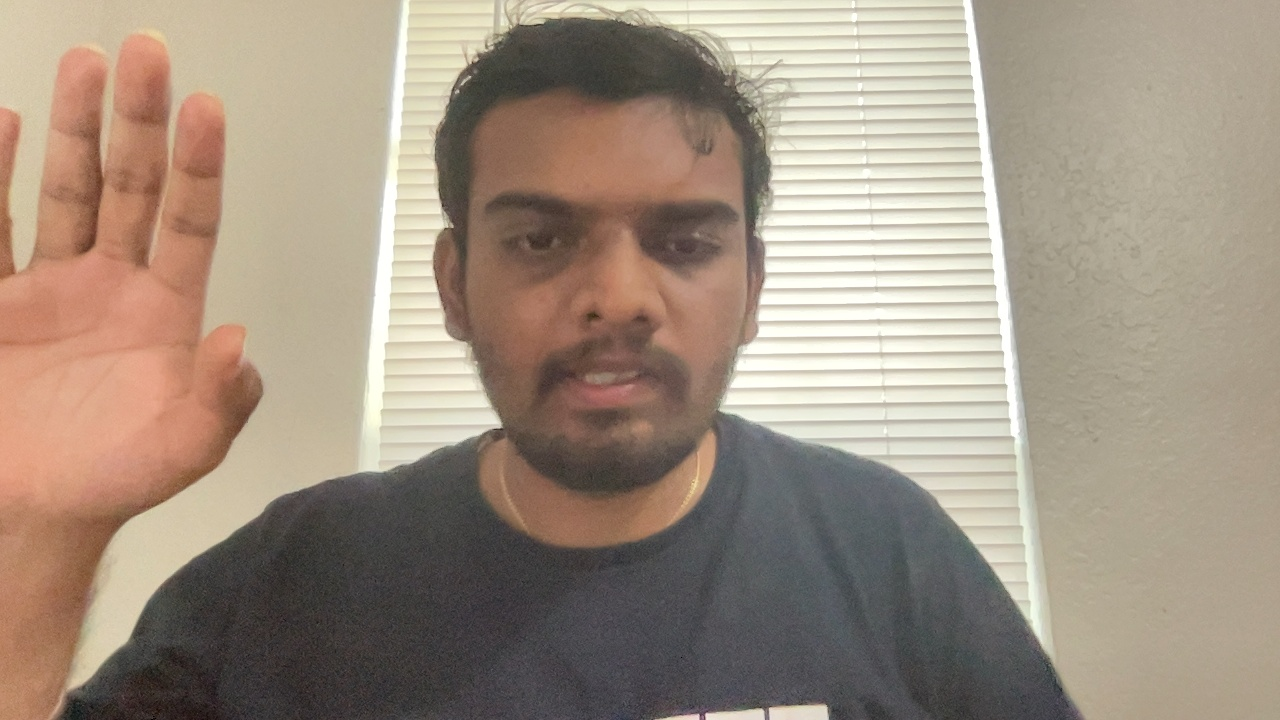hello: (1, 38, 260, 523)
